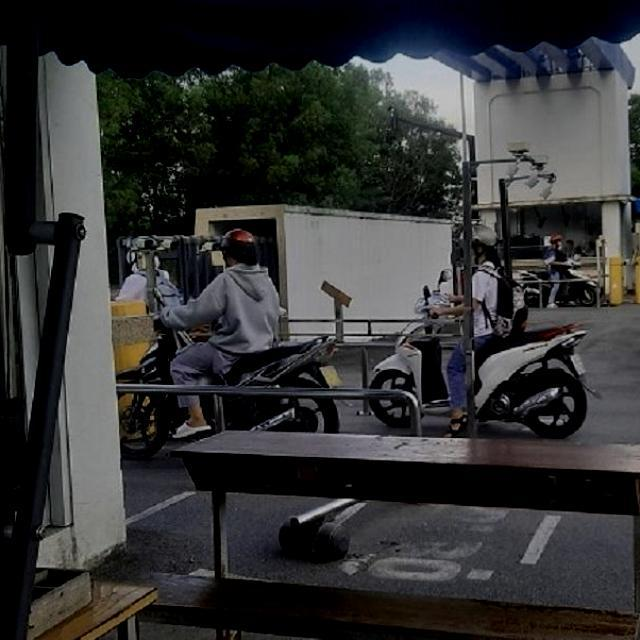Helmet: (218, 226, 263, 269)
